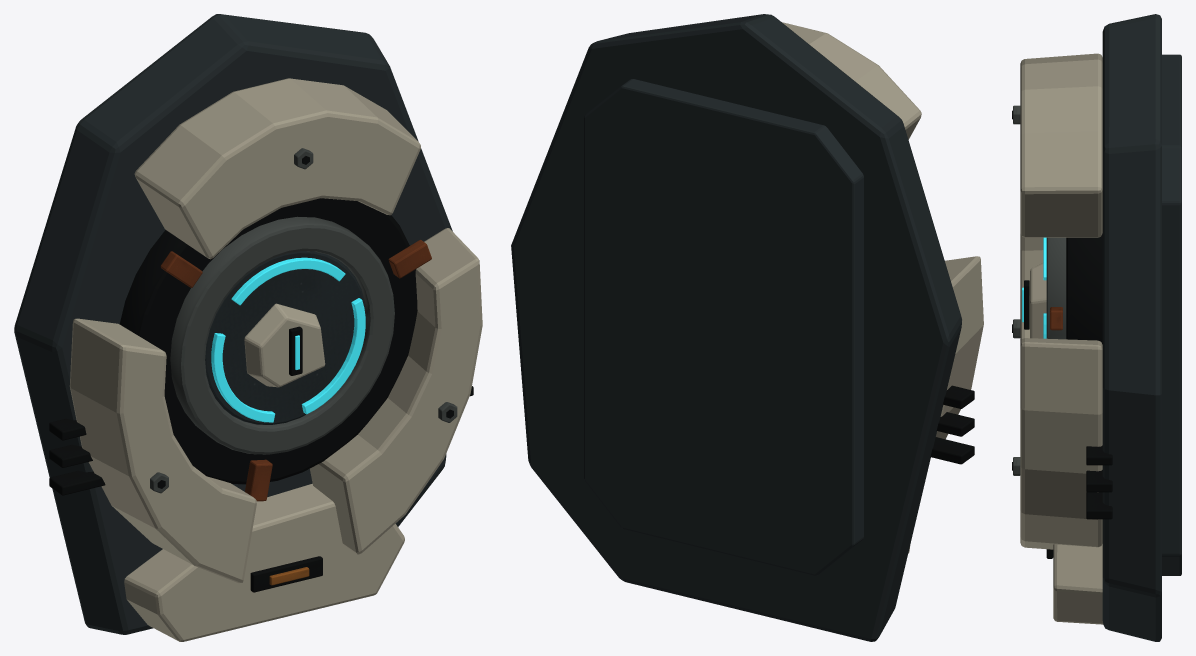
Rendered from static_shield.glb.
3 renders of one model, left to right at view 1: azimuth 30°, elevation 25°; view 2: azimuth 150°, elevation 25°; view 3: azimuth 270°, elevation 25°, orthographic. The views are drawn at different scales.
Visible parts, largest first — view 1: ivory, steel, rubber, edge, cyan, copper; view 2: steel, ivory, rubber; view 3: steel, ivory, rubber, edge, cyan, copper.
Part boxes in pixels (x1,y1,x2,y2): ivory: [69, 78, 482, 641]; steel: [14, 14, 452, 634]; rubber: [49, 156, 473, 592]; edge: [150, 148, 457, 493]; cyan: [211, 257, 365, 422]; copper: [160, 239, 431, 501]; steel: [511, 14, 961, 641]; ivory: [782, 22, 983, 553]; rubber: [930, 385, 974, 464]; steel: [1102, 14, 1181, 641]; ivory: [1020, 53, 1103, 624]; rubber: [1012, 110, 1112, 558]; edge: [1013, 105, 1066, 475]; cyan: [1022, 237, 1046, 338]; copper: [1050, 307, 1062, 330].
Size of the model in its own units: 0.1486 by 0.1908 by 0.0515.
7 materials, 6 textured.
